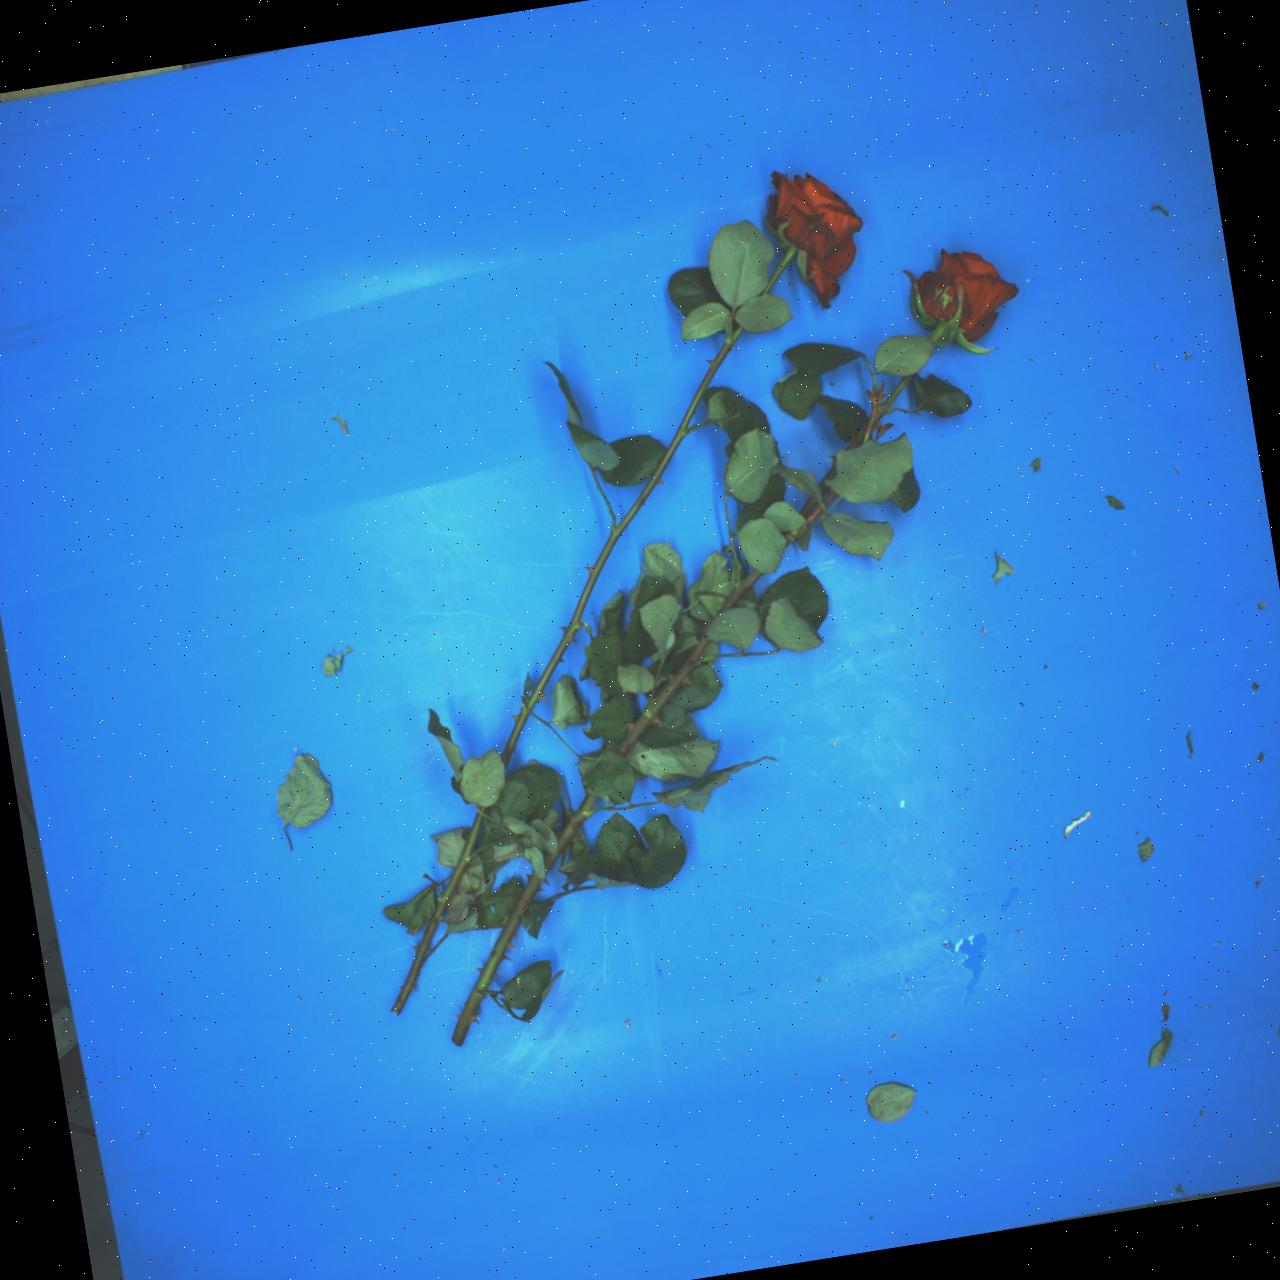Stem: (488, 320, 744, 768), (387, 805, 492, 1016), (448, 871, 544, 1047), (614, 635, 715, 757), (535, 791, 601, 874), (715, 567, 764, 618), (872, 369, 914, 422), (758, 246, 797, 297), (816, 463, 839, 495), (799, 497, 817, 517), (928, 325, 946, 343)
flower: (742, 148, 891, 311), (901, 232, 1022, 350)
